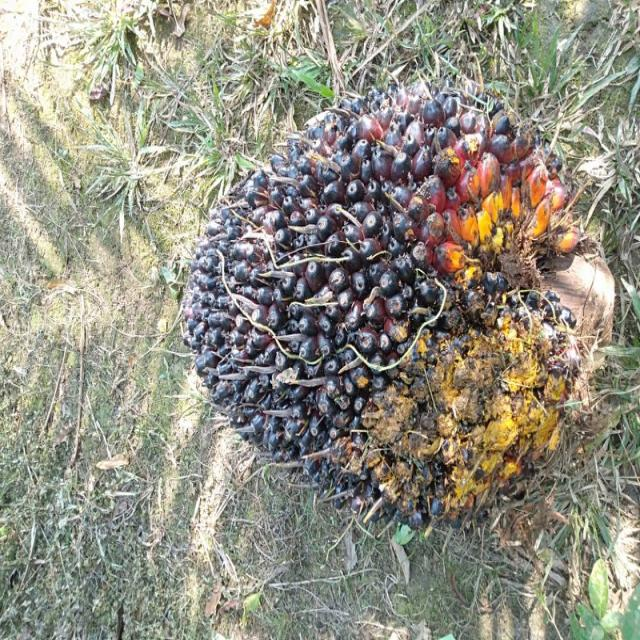fraksi 00: (160, 49, 622, 570)
